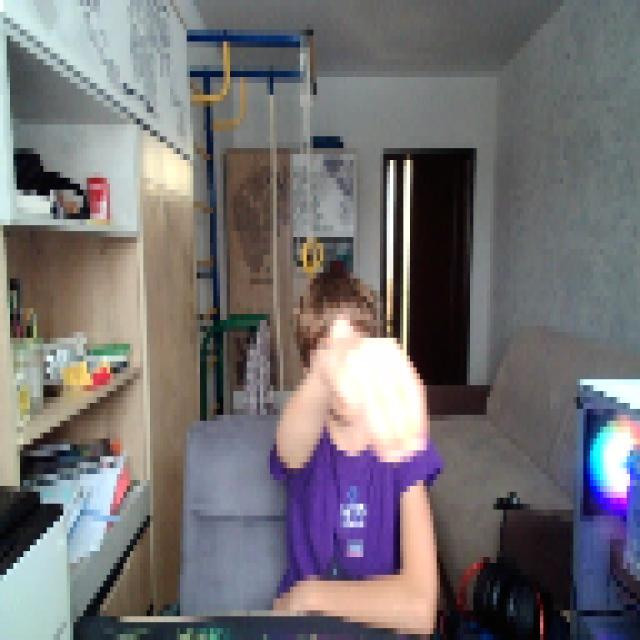left_click: (323, 326, 427, 462)
